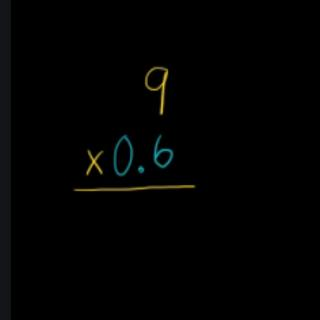.: (135, 161, 146, 178)
0: (104, 127, 133, 181)
6: (149, 132, 175, 172)
9: (139, 59, 175, 123)
